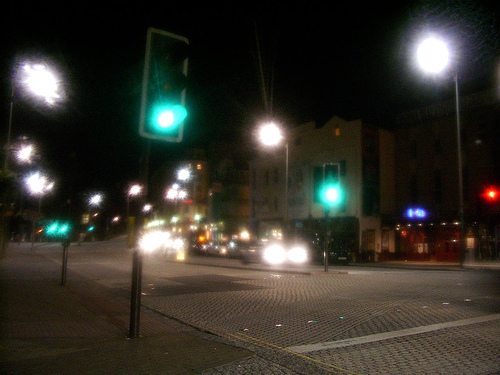car: (307, 238, 354, 269)
